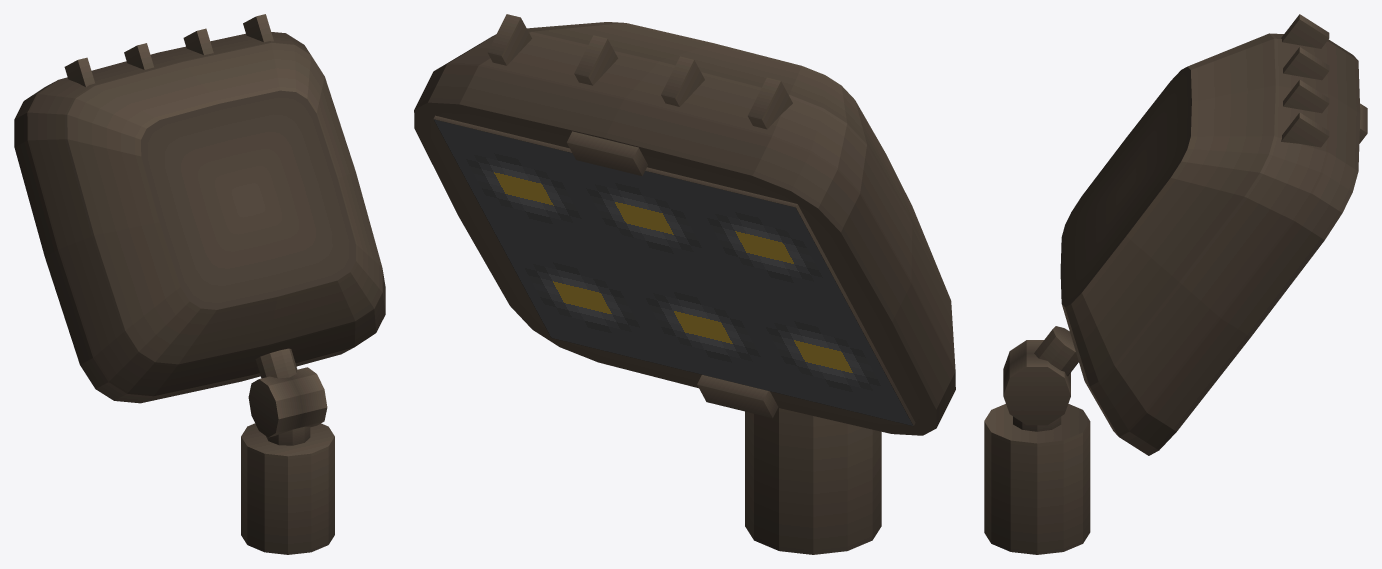
Rendered from floodlight_lithtflsf_g.obj.
The picture shows the model from 3 angles, left to right: view 1: azimuth 30°, elevation 25°; view 2: azimuth 150°, elevation 25°; view 3: azimuth 270°, elevation 25°; orthographic projection. The views are drawn at different scales.
Visible parts, largest first — view 1: fixture; view 2: fixture; view 3: fixture.
Boxes of the visible parts, x1,y1,x2,y2 form: fixture: (14,14,385,554); fixture: (414,14,955,554); fixture: (984,14,1367,554).
Size of the model in its own units: 0.5714 by 0.7588 by 0.5653.
